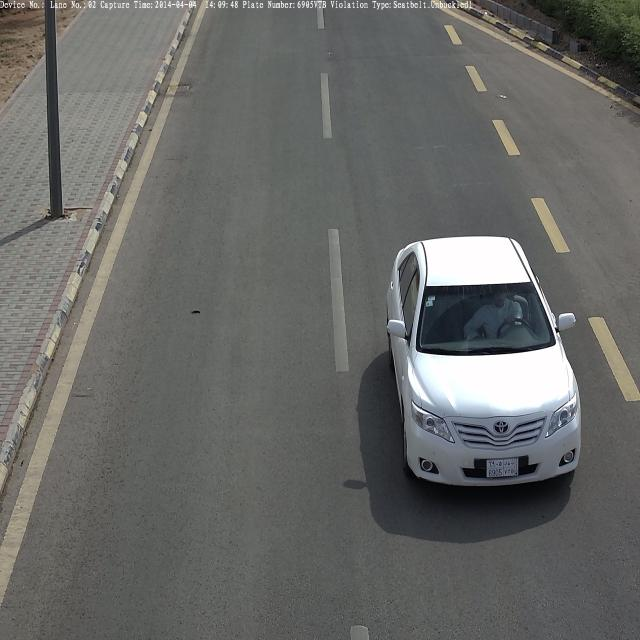person_without_seatbelt: (484, 287, 530, 342)
